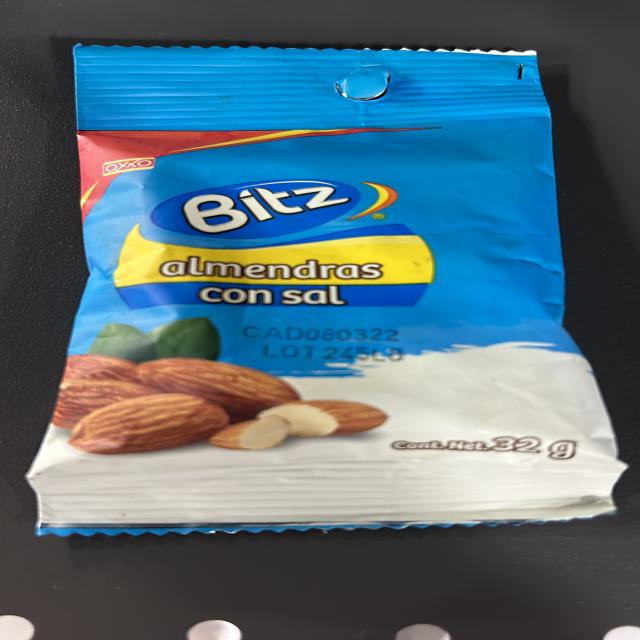bitzAlmendras: (74, 44, 539, 525)
